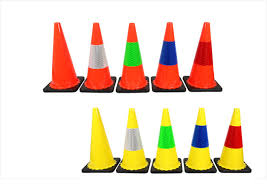cones: (34, 19, 79, 93), (117, 24, 149, 96), (154, 21, 184, 95), (188, 23, 219, 93), (81, 28, 113, 95)
